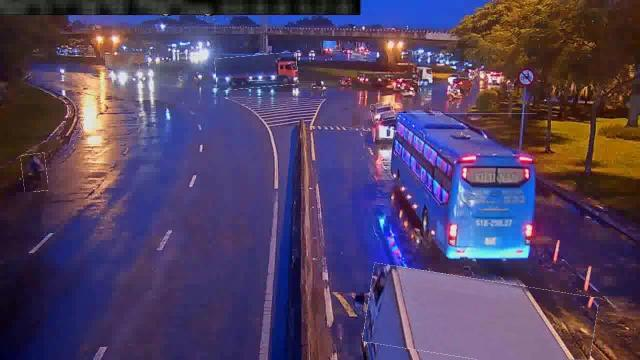Bike: (21, 154, 47, 192)
Bus: (394, 114, 538, 261)
Car: (373, 115, 403, 137), (371, 102, 395, 122)
Truck: (365, 271, 597, 359), (215, 55, 297, 90)
